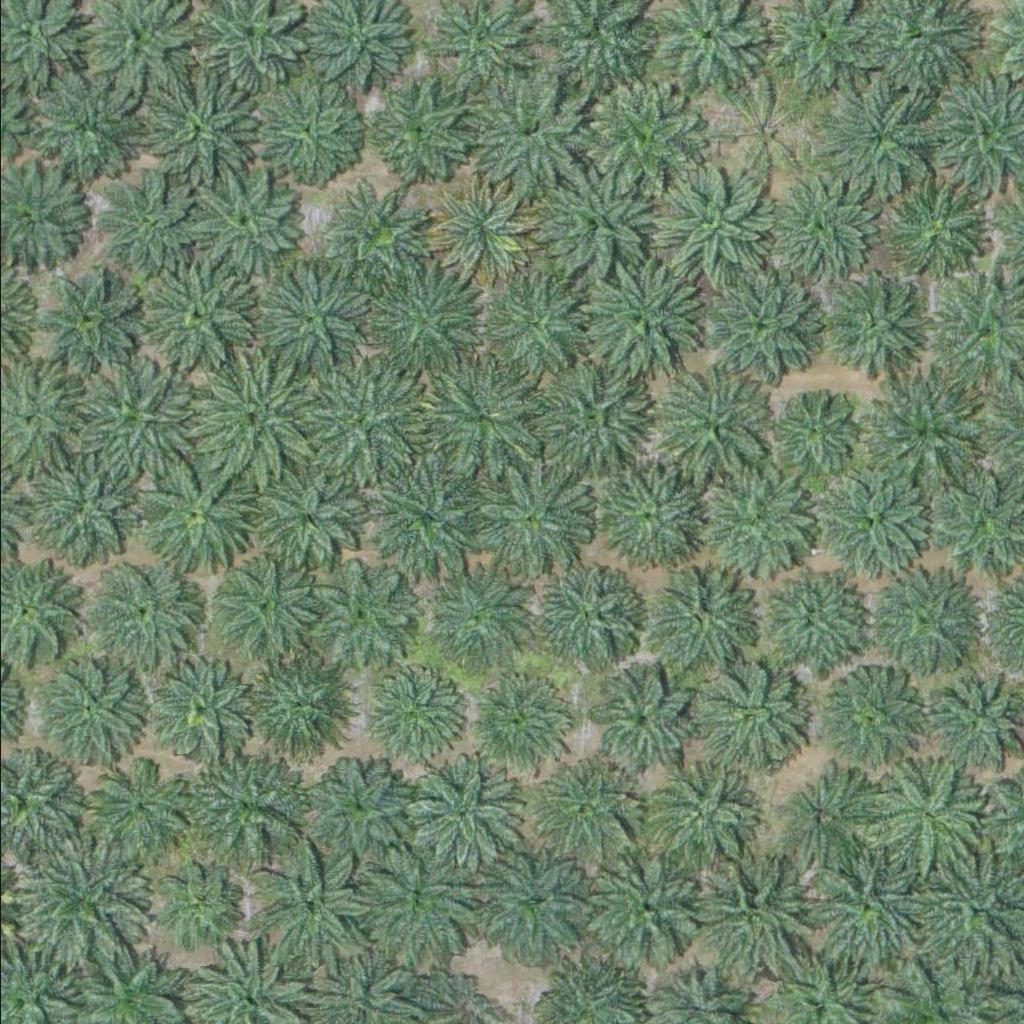Kelapa_Sawit: (20, 838, 146, 963), (856, 370, 982, 495), (350, 832, 476, 957), (254, 842, 380, 967), (415, 354, 541, 479), (296, 360, 422, 485), (690, 842, 815, 967), (194, 354, 319, 479), (590, 465, 704, 578), (656, 371, 770, 484), (475, 457, 589, 570), (703, 270, 817, 383), (87, 553, 200, 666), (137, 462, 250, 575), (32, 452, 145, 565), (140, 73, 253, 186), (39, 59, 152, 172), (637, 759, 750, 872), (808, 662, 921, 775), (686, 657, 799, 770), (865, 565, 978, 678), (482, 845, 595, 958), (406, 754, 519, 867), (210, 548, 323, 661), (251, 462, 364, 575), (370, 464, 483, 577), (532, 357, 645, 470), (587, 258, 700, 371), (586, 79, 699, 192), (421, 173, 534, 286), (188, 170, 301, 283), (468, 75, 581, 188), (363, 71, 476, 184), (195, 743, 309, 855), (244, 648, 358, 760), (308, 554, 422, 666), (755, 174, 869, 286), (37, 651, 150, 763), (83, 361, 196, 473), (812, 852, 925, 964), (586, 855, 699, 967), (747, 563, 860, 675), (639, 560, 752, 672), (811, 464, 924, 576), (700, 463, 813, 575), (477, 270, 590, 382), (368, 260, 481, 372), (257, 260, 370, 372), (145, 259, 258, 371), (821, 81, 934, 193), (537, 166, 650, 278), (659, 167, 772, 279), (711, 82, 812, 182), (33, 269, 134, 369), (873, 765, 974, 865), (779, 771, 880, 871), (532, 759, 633, 859), (592, 667, 693, 767), (255, 81, 356, 181), (92, 757, 192, 857), (151, 660, 251, 760), (539, 562, 639, 662), (311, 762, 411, 862), (467, 667, 567, 767), (360, 663, 460, 763), (428, 568, 528, 668), (885, 177, 985, 277), (827, 276, 927, 376), (330, 191, 419, 278), (99, 178, 187, 265), (166, 864, 242, 939), (775, 390, 851, 465)
